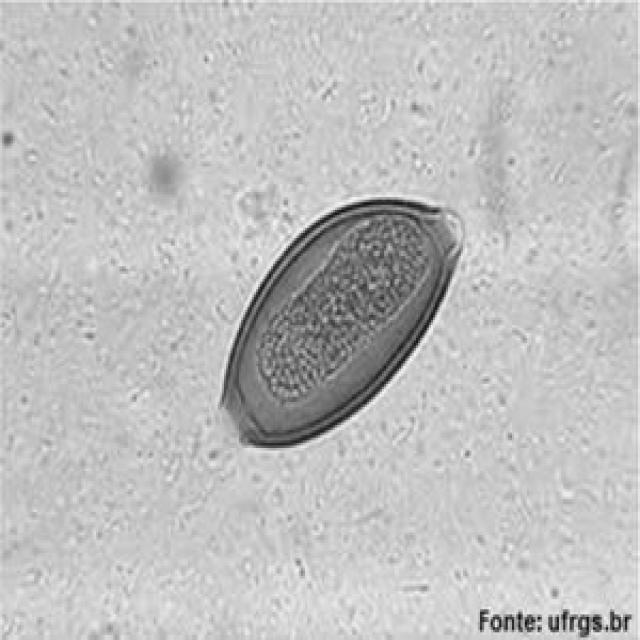Trichuris Trichiura: (208, 189, 470, 466)
